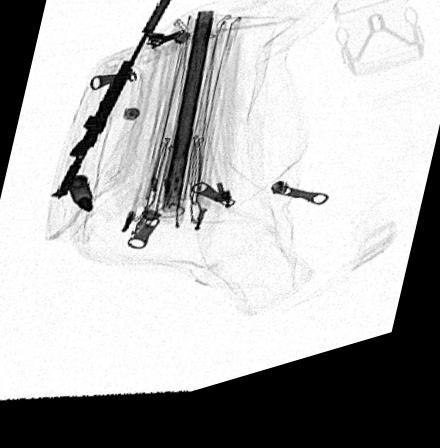Bullet: (64, 180, 92, 217)
Gun: (52, 2, 174, 200)
